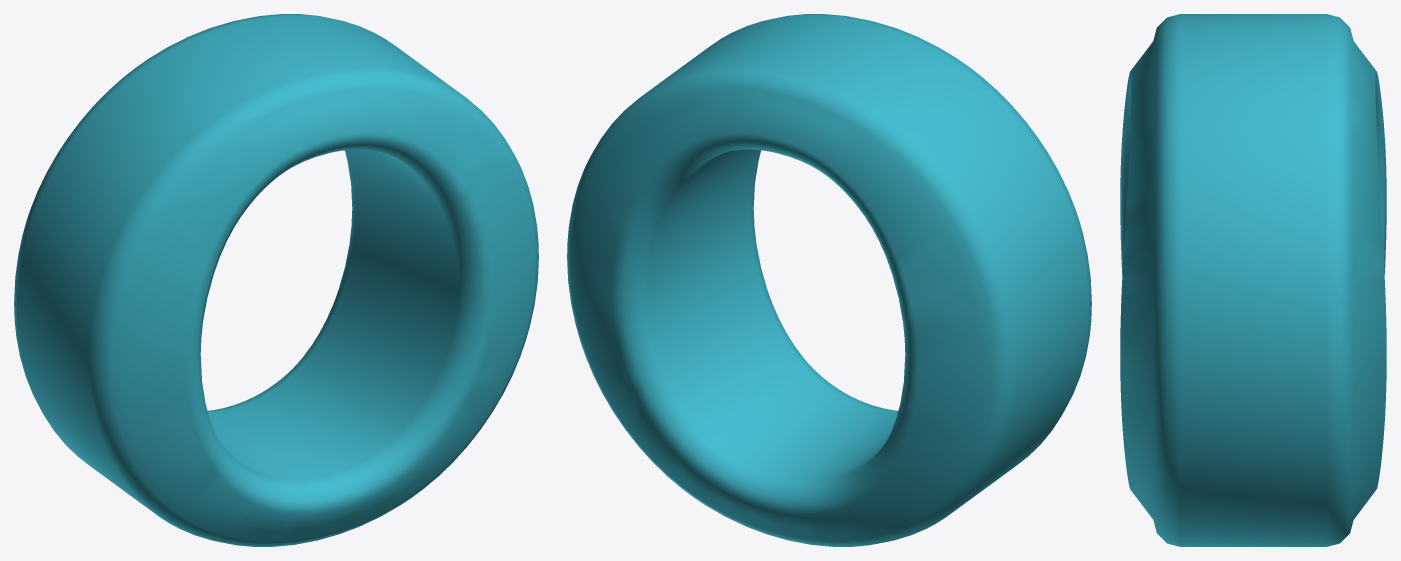
The picture shows the model from 3 angles, left to right: view 1: azimuth 30°, elevation 25°; view 2: azimuth 150°, elevation 25°; view 3: azimuth 270°, elevation 25°; orthographic projection. The views are drawn at different scales.
Parts seen in each view (by area): view 1: o; view 2: o; view 3: o.
Boxes of the visible parts, left/top/right/bottom form: o: left=14, top=14, right=538, bottom=546; o: left=567, top=14, right=1091, bottom=546; o: left=1120, top=14, right=1386, bottom=546.
Bounding box in the file's own units: 119 × 118 × 59.38.
